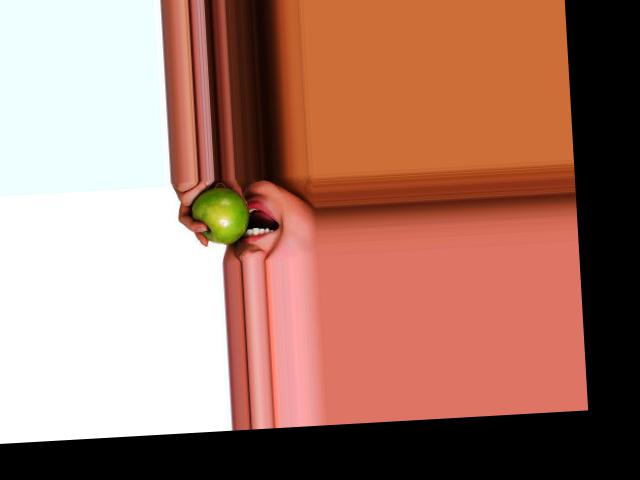apple: (187, 186, 253, 246)
